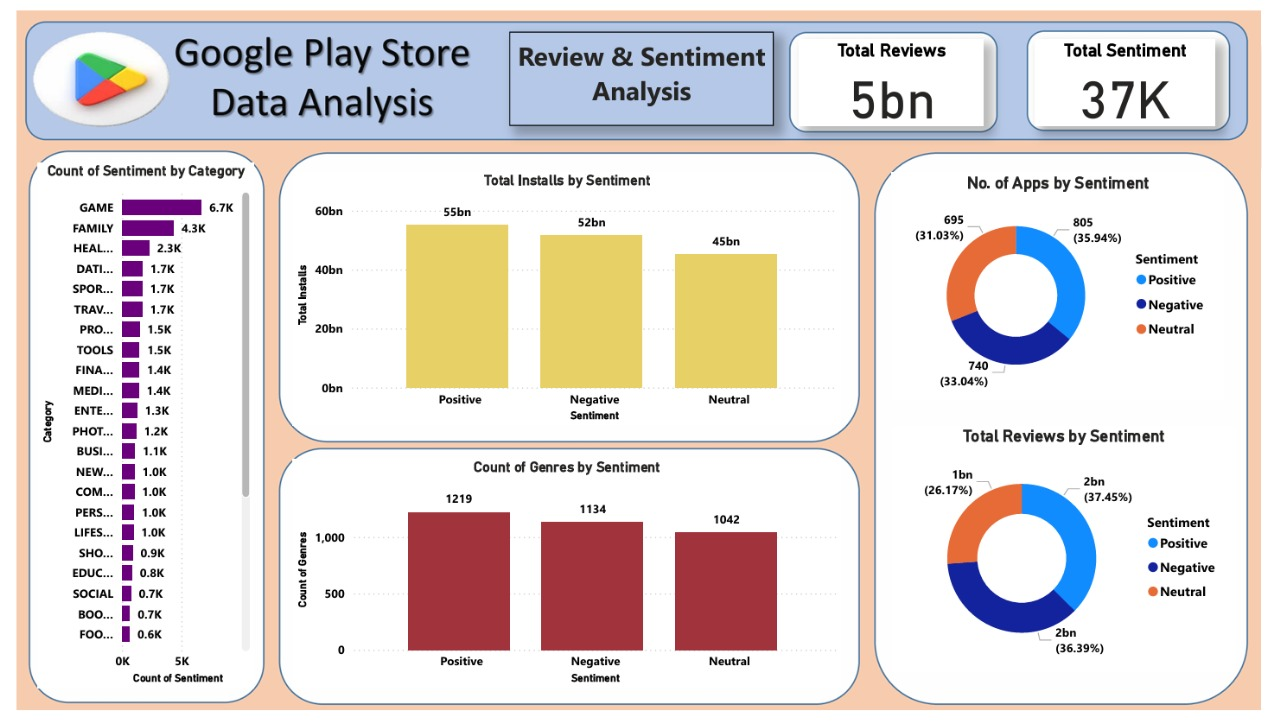

What the dashboard file says about the page in this screenshot:
{"tool":"powerbi","page":{"name":"Sentiment","canvas":[1280,720],"ordinal":2},"visuals":[{"type":"clusteredBarChart","fields":{"Category":["googleplaystore.Category"],"Y":["CountNonNull(googleplaystore_user_reviews.Sentiment)"]},"box":[20.9,155.8,223.3,541.1],"z":0},{"type":"card","title":"Total Reviews","fields":{"Values":["googleplaystore.Total Reviews"]},"box":[803.7,29.4,190.2,88.3],"z":1000},{"type":"card","title":"Total Sentiment ","fields":{"Values":["googleplaystore_user_reviews.Sentiment Count"]},"box":[1046.6,29.4,185.3,88.3],"z":2000},{"type":"columnChart","fields":{"Category":["googleplaystore_user_reviews.Sentiment"],"Y":["googleplaystore.Total Installs"]},"box":[283.4,165.6,564.4,261.4],"z":3000},{"type":"columnChart","fields":{"Y":["CountNonNull(googleplaystore.Genres)"],"Category":["googleplaystore_user_reviews.Sentiment"]},"box":[283.4,461.4,564.4,235.6],"z":4000},{"type":"donutChart","title":"No. of Apps by Sentiment","fields":{"Category":["googleplaystore_user_reviews.Sentiment"],"Y":["googleplaystore.No.Of Apps"]},"box":[899.4,165.6,342.3,234.4],"z":5000},{"type":"donutChart","fields":{"Y":["googleplaystore.Total Reviews"],"Category":["googleplaystore_user_reviews.Sentiment"]},"box":[899.4,427,354.6,252.8],"z":6000},{"type":"textbox","box":[505.5,20.9,272.4,96.9],"z":7000}]}

Visuals, with their boxes in screenshot pixels (x1, y1, x2, y2), scaled from the page's 1280x720 canvas onto the 1280x723 screenshot:
clusteredBarChart - googleplaystore.Category x CountNonNull(googleplaystore_user_reviews.Sentiment): bbox=[21, 156, 244, 700]
"Total Reviews" card: bbox=[804, 30, 994, 118]
"Total Sentiment " card: bbox=[1047, 30, 1232, 118]
columnChart - googleplaystore_user_reviews.Sentiment x googleplaystore.Total Installs: bbox=[283, 166, 848, 429]
columnChart - CountNonNull(googleplaystore.Genres) x googleplaystore_user_reviews.Sentiment: bbox=[283, 463, 848, 700]
"No. of Apps by Sentiment" donutChart: bbox=[899, 166, 1242, 402]
donutChart - googleplaystore.Total Reviews x googleplaystore_user_reviews.Sentiment: bbox=[899, 429, 1254, 683]
textbox: bbox=[506, 21, 778, 118]
